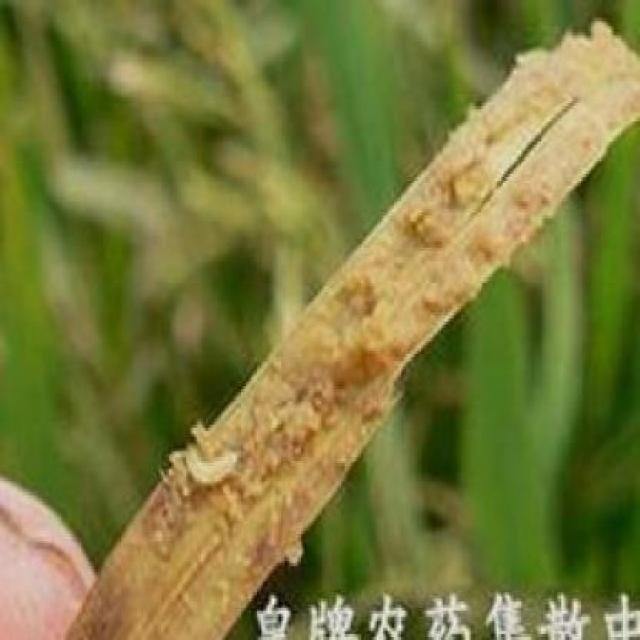whorl-maggot: (176, 437, 242, 492)
